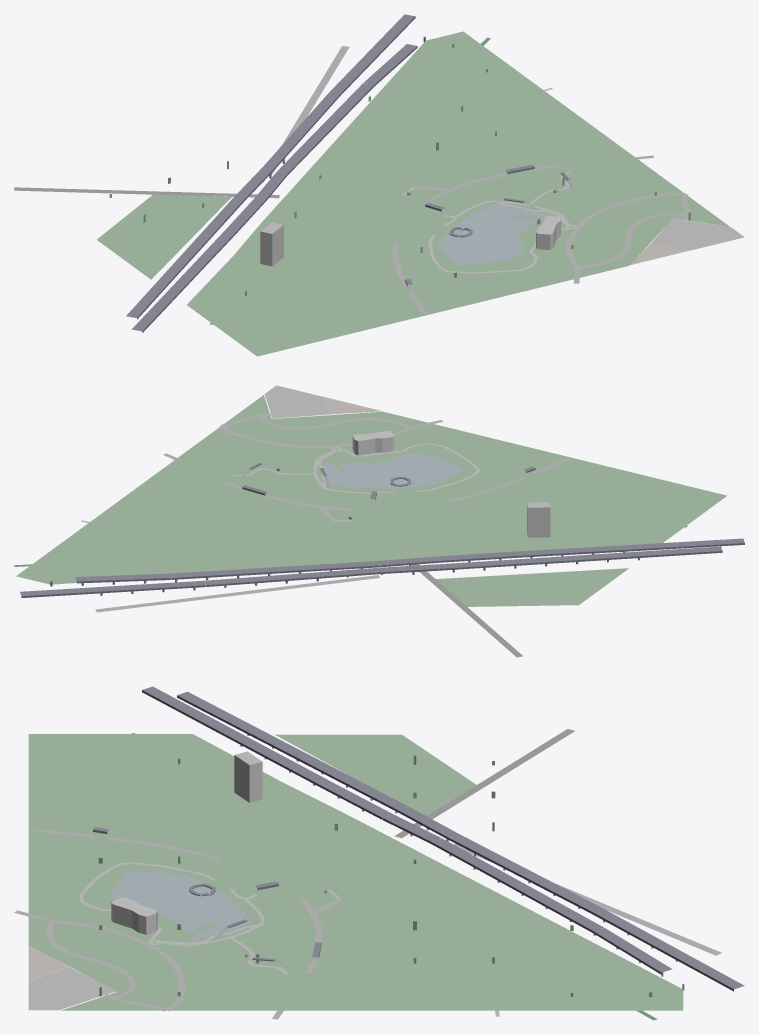
3 renders of one model, top to bottom at view 1: azimuth 30°, elevation 25°; view 2: azimuth 150°, elevation 25°; view 3: azimuth 270°, elevation 25°, orthographic. The views are drawn at different scales.
Size of the model in its own units: 590 by 33.18 by 558.
